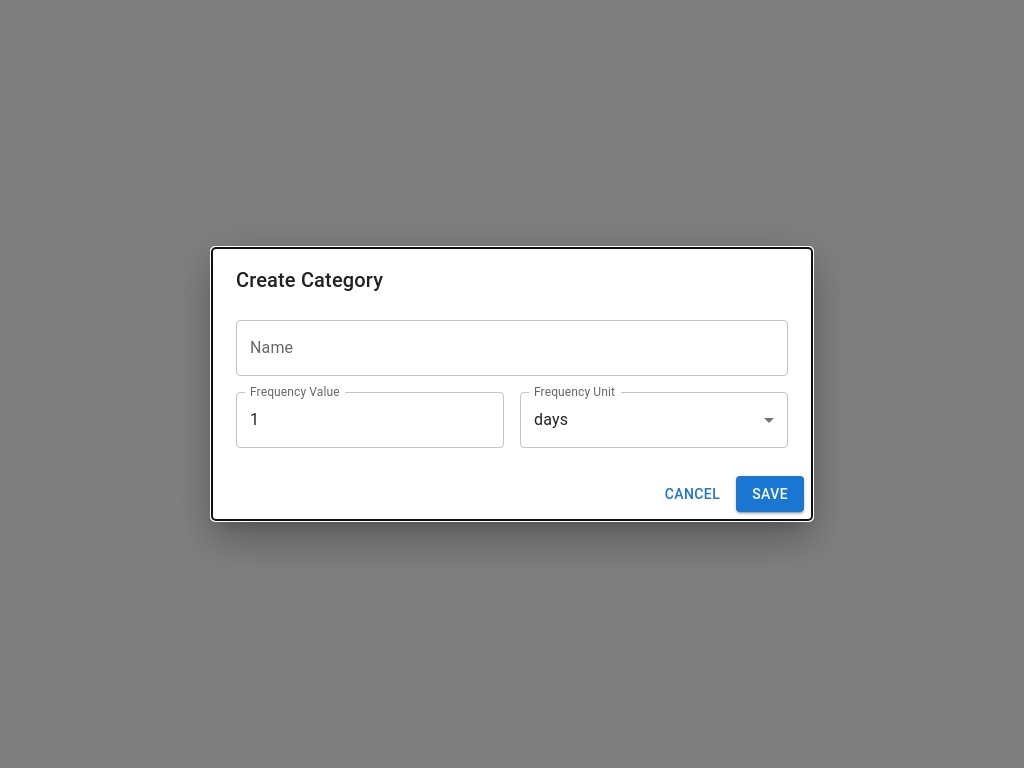
Scenario: CategoryFormModal › should show validation error when name is empty
Click the button "Save". click: (770, 494)
box: [736,476,804,512]
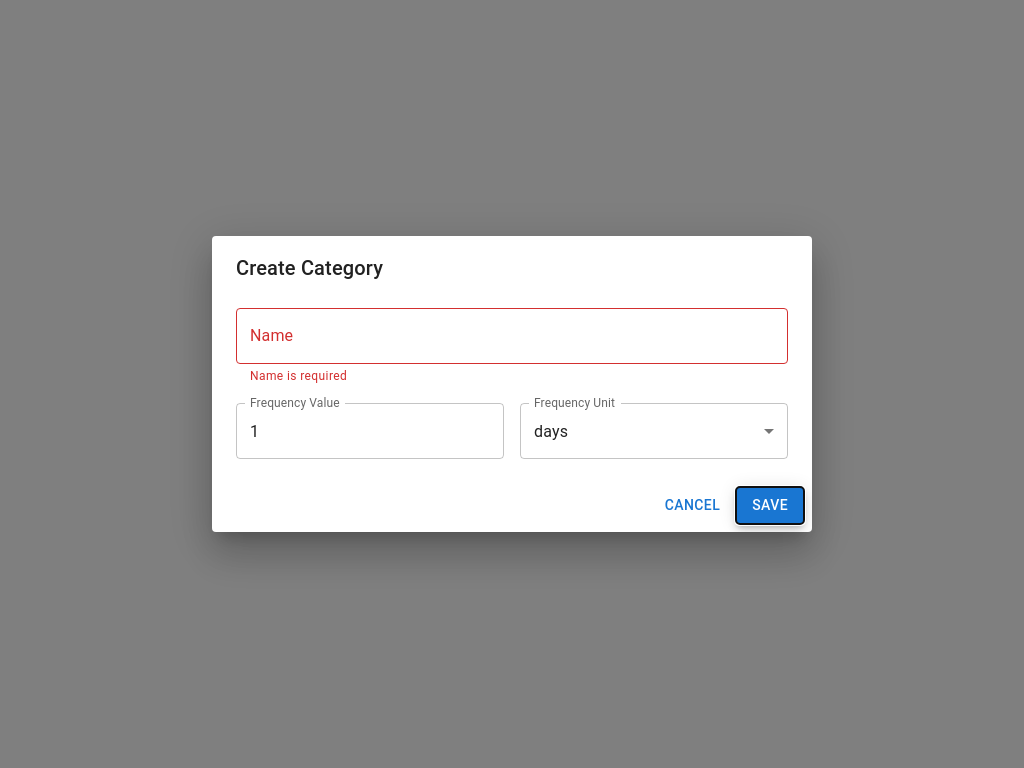
Expected: the text "Name is required" is shown, [250,369,347,383]
